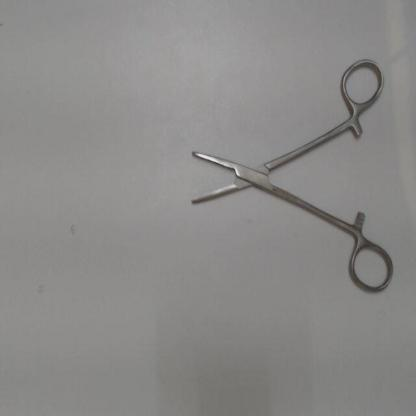Mayo Needle Holder: (184, 53, 396, 296)
